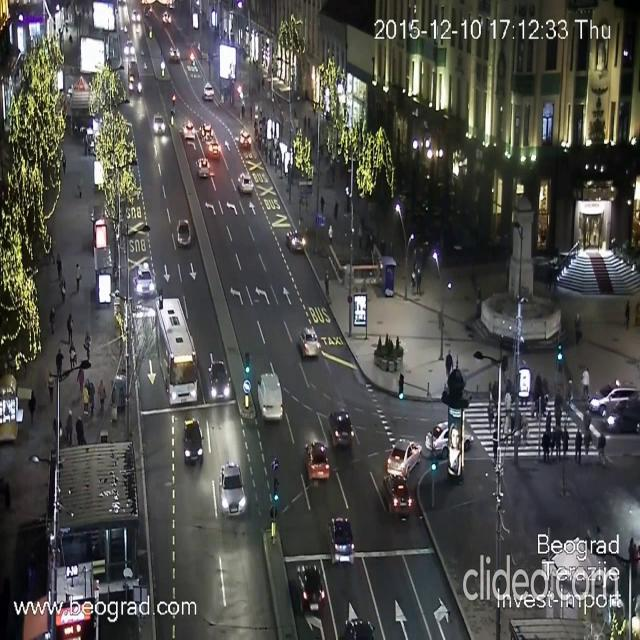bus: (154, 295, 198, 405)
car: (218, 460, 246, 516), (297, 563, 325, 614), (327, 516, 355, 564), (589, 385, 637, 413), (426, 422, 470, 452), (257, 372, 283, 422), (603, 397, 640, 431), (385, 470, 409, 518), (207, 354, 231, 400), (182, 417, 204, 466), (304, 441, 330, 481), (390, 442, 420, 476), (328, 409, 353, 448), (298, 326, 320, 358), (345, 616, 371, 640), (136, 264, 154, 297), (286, 228, 306, 254), (128, 61, 142, 97), (176, 219, 190, 246), (198, 154, 212, 180), (237, 172, 253, 194), (150, 113, 166, 134), (198, 123, 216, 141), (207, 141, 221, 159), (183, 121, 196, 140), (204, 84, 215, 100), (124, 43, 138, 53), (171, 44, 178, 62), (162, 12, 170, 23), (134, 13, 142, 23)
